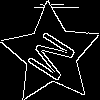M: (26, 29, 85, 89)
